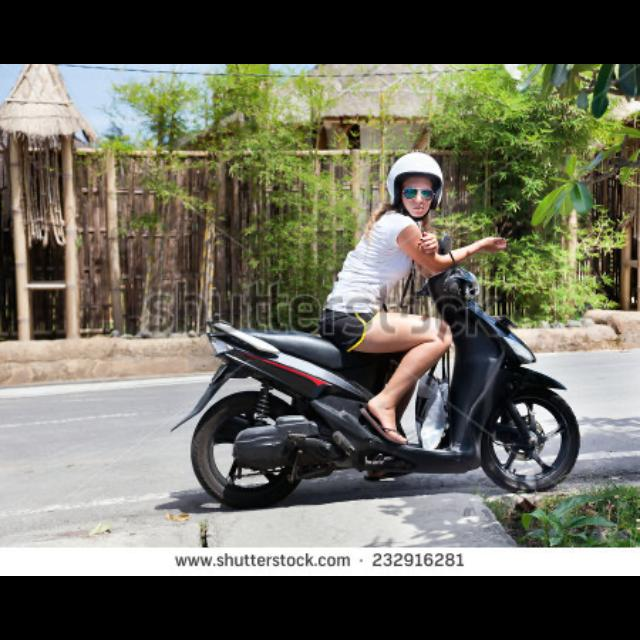With Helmet: (380, 146, 448, 222)
